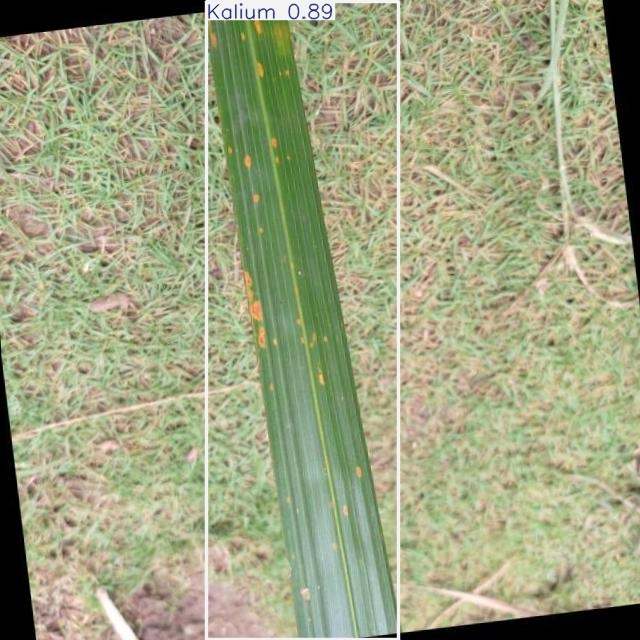Kalium: (206, 2, 399, 640)
